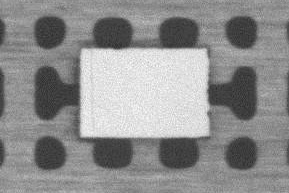DIE_CRACK: (89, 49, 98, 130)
